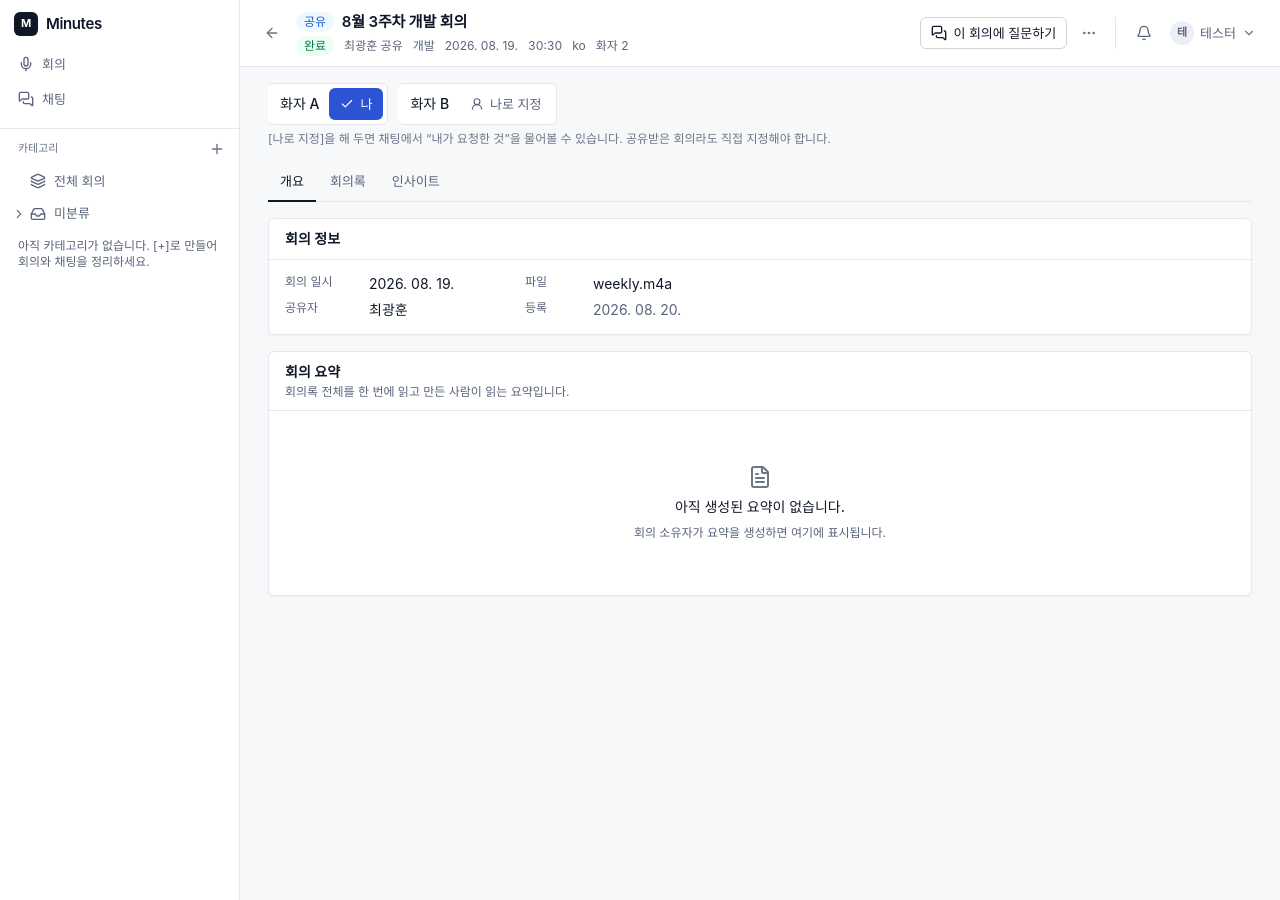
Test: 공유받은 회의 (읽는 쪽) › 공유받은 회의에는 검색 인덱스 다시 생성이 없고, ⋯ 안에 삭제만 있다
The width and height of the screenshot is (1280, 900).
Click the button named "8월 3주차 개발 회의 관리 메뉴".
click(1089, 33)  # box [1075,19,1103,47]
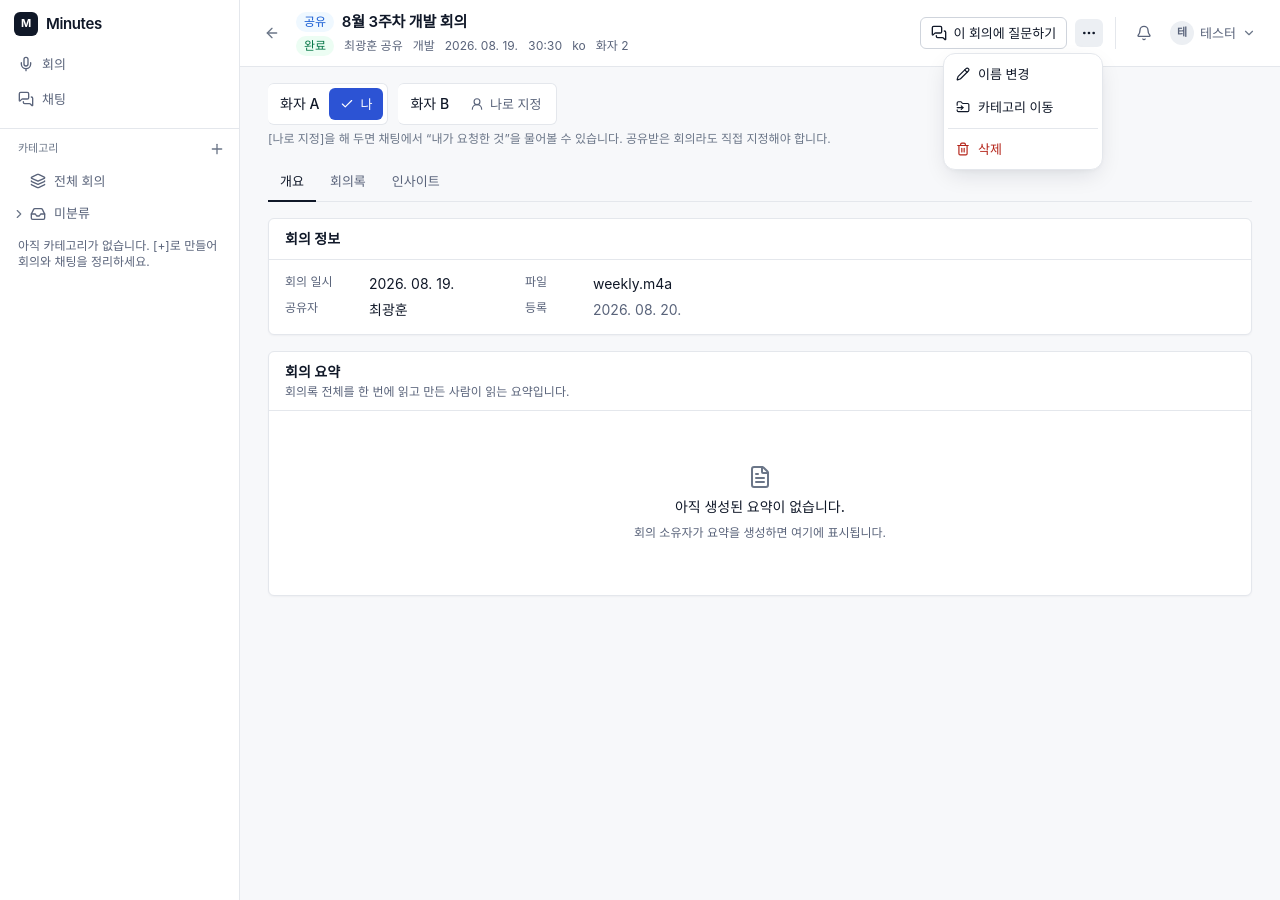
Now the menu item "삭제" is shown, box [956,141,1002,157]
Now the menu item "이름 변경" is shown, box [956,66,1030,82]
Now the menu item "카테고리 이동" is shown, box [956,99,1053,115]
